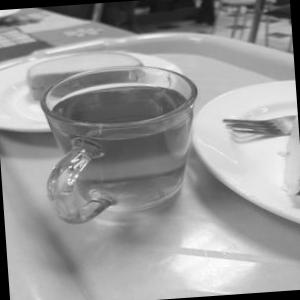bread: (16, 38, 154, 112)
tea: (22, 43, 222, 238)
